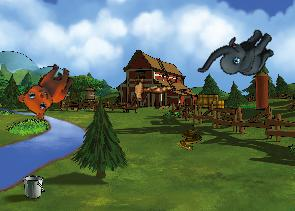bear: (13, 54, 78, 124)
eagle: (117, 61, 176, 118)
elephant: (196, 11, 281, 100)
